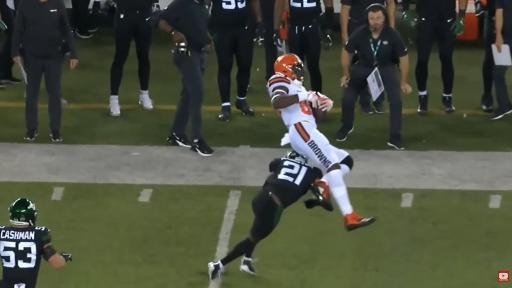Helmet: (274, 54, 304, 81), (9, 199, 37, 225), (286, 151, 307, 164)
Jersey: (0, 227, 50, 286), (264, 158, 322, 208), (210, 0, 250, 29), (277, 102, 316, 129), (416, 0, 456, 22), (289, 0, 321, 26)
Player: (268, 54, 375, 230), (208, 152, 331, 279), (0, 199, 72, 287), (274, 0, 334, 92)
